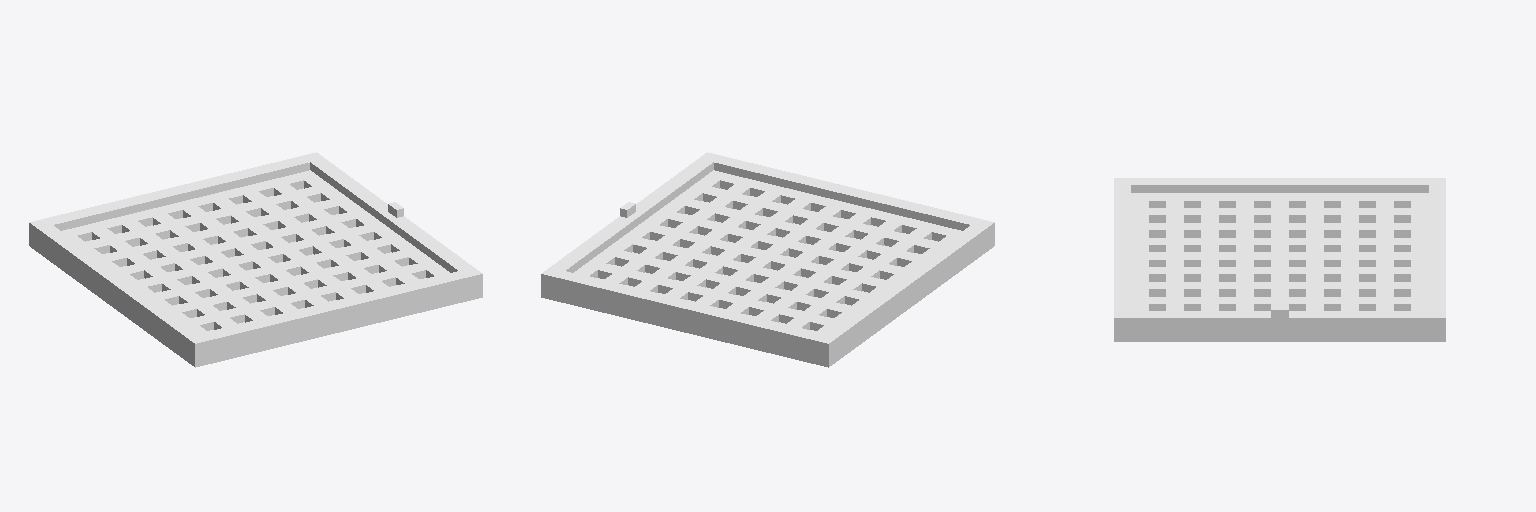
The model's file is cubierta.obj.
3 views of the same model, side by side, from view 1: azimuth 30°, elevation 25°; view 2: azimuth 150°, elevation 25°; view 3: azimuth 270°, elevation 25° (orthographic).
Bounding box in the file's own units: 38 × 4 × 38.